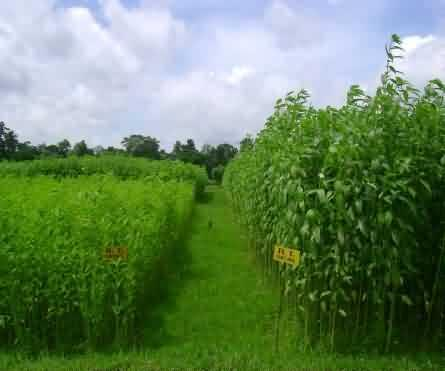jute: (6, 159, 193, 345), (251, 87, 435, 233)
